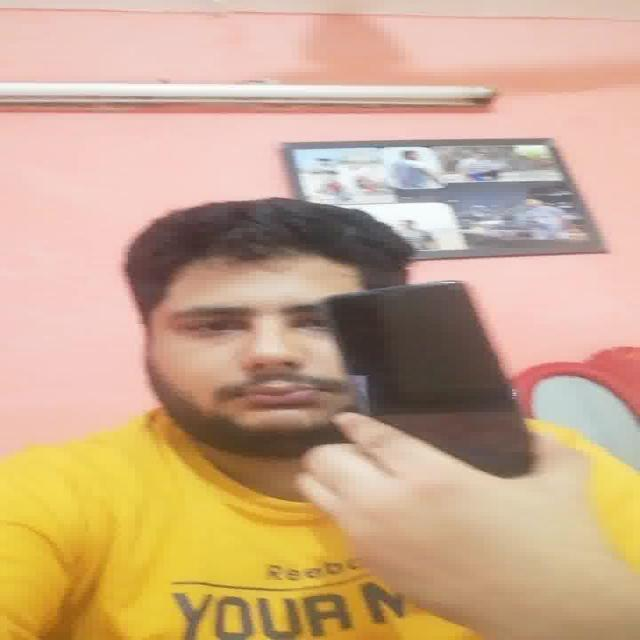Phone: (320, 276, 538, 478)
